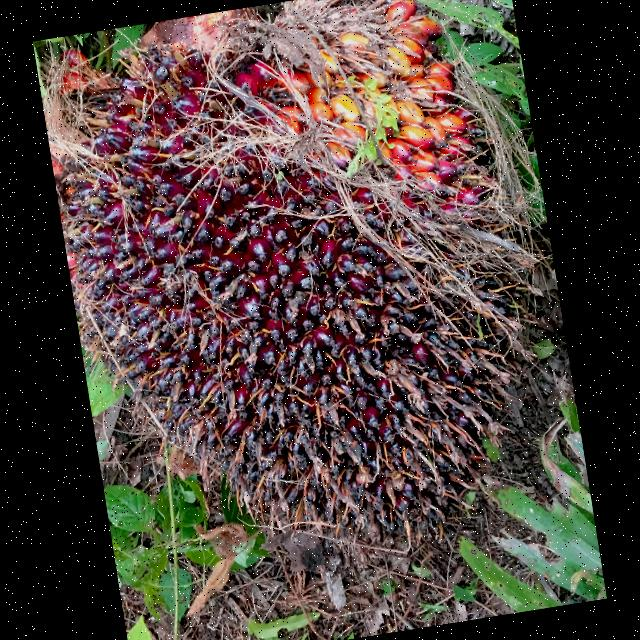Unripe: (68, 0, 492, 517)
